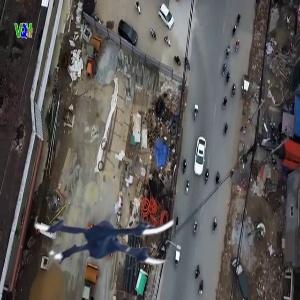drone: (39, 158, 178, 297)
